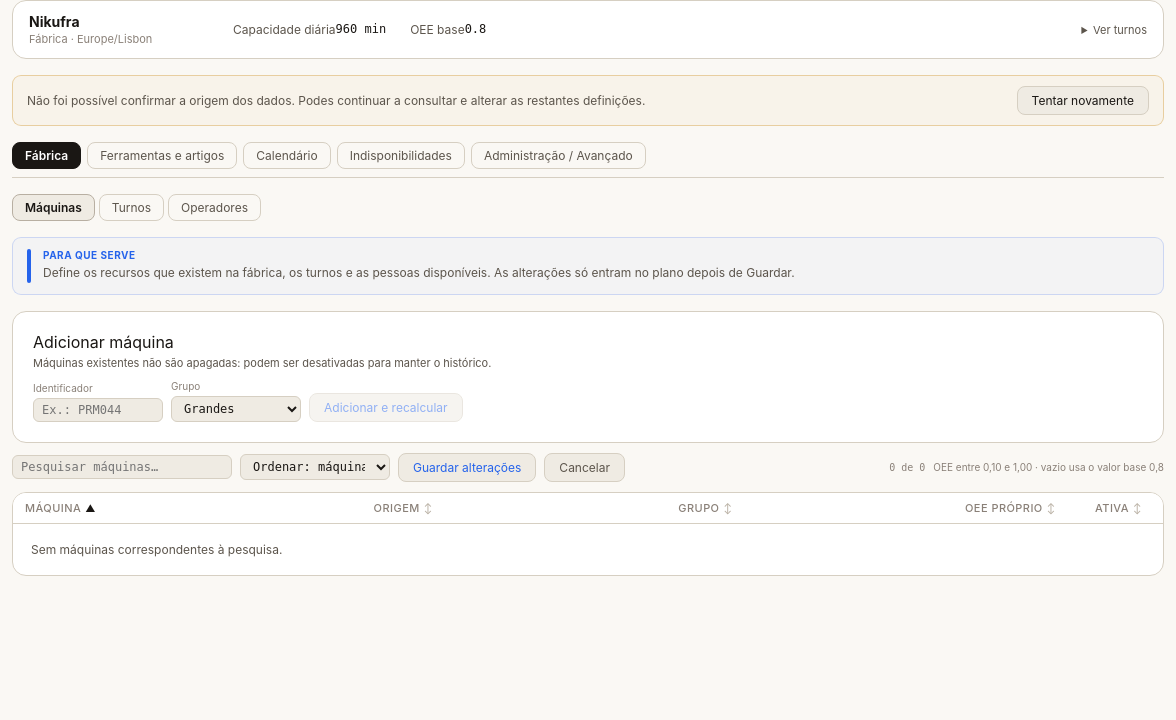
Test: Configuração › mantém as definições acessíveis e recupera quando o catálogo falha
Expected: the message shows "Podes continuar a consultar e alterar as restantes definições.", [27,93,645,108]
Expected: the text "Adicionar máquina" is shown, [33,332,174,352]
Click the button "Tentar novamente" at (1083, 100), box [1017,86,1149,115]
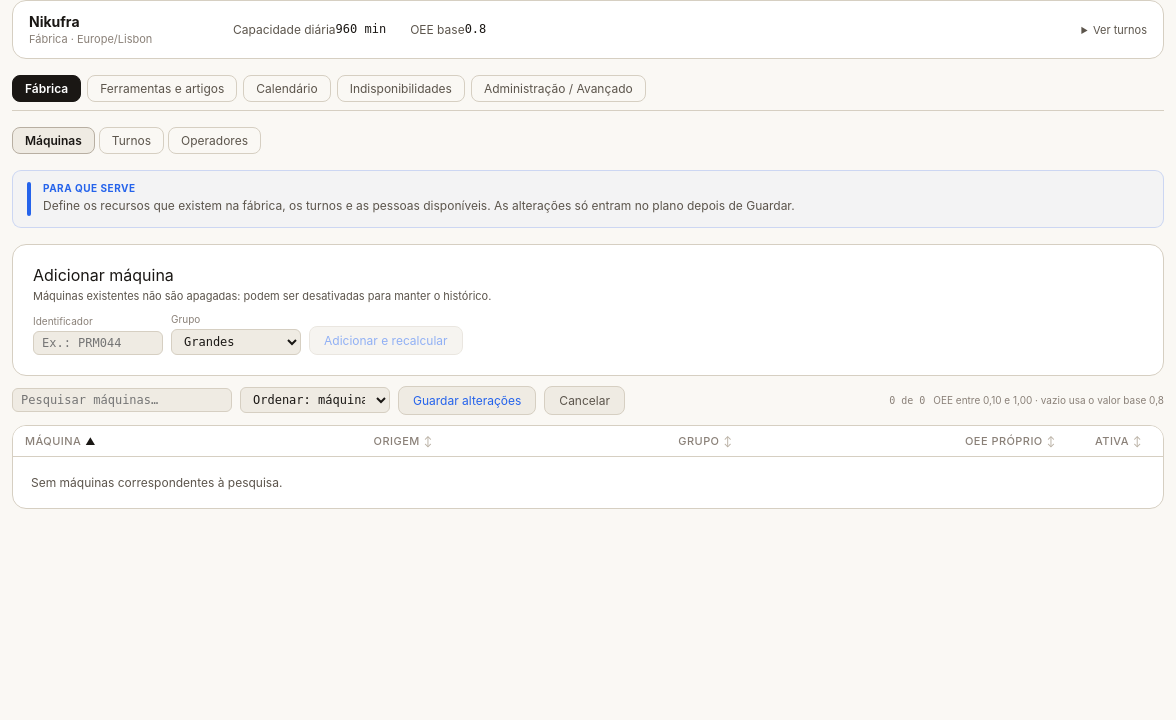
Expected: the message is gone
